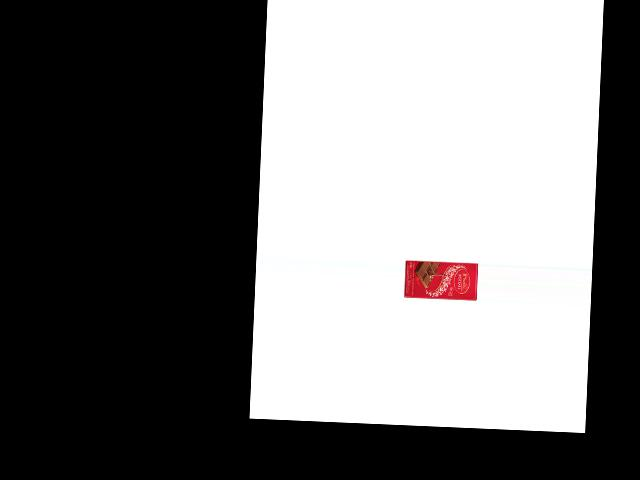chocolate: (404, 256, 478, 302)
